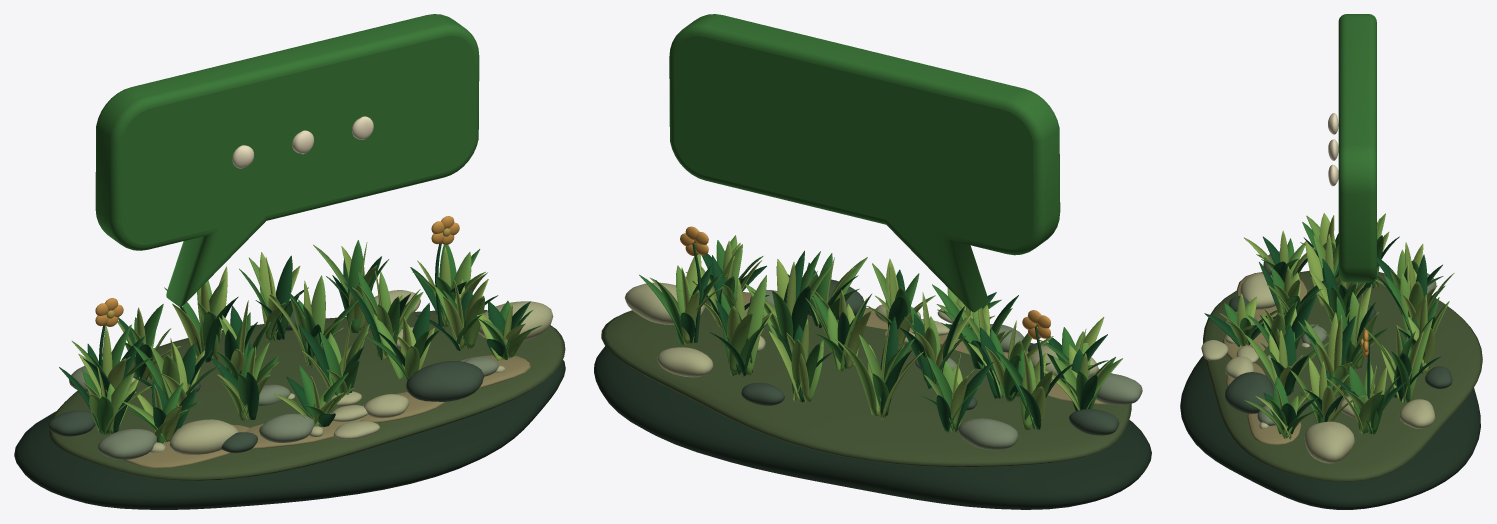
Rendered from invite.glb.
3 renders of one model, left to right at view 1: azimuth 30°, elevation 25°; view 2: azimuth 150°, elevation 25°; view 3: azimuth 270°, elevation 25°, orthographic. The views are drawn at different scales.
Visible parts, largest first — view 1: invite_surface_04, invite_surface_01, invite_surface_00, invite_surface_06, invite_surface_03, invite_surface_05, invite_surface_08, invite_surface_09, invite_surface_07, invite_surface_02, invite_surface_10, invite_surface_11; view 2: invite_surface_04, invite_surface_01, invite_surface_00, invite_surface_06, invite_surface_03, invite_surface_05, invite_surface_08, invite_surface_07, invite_surface_09, invite_surface_11, invite_surface_02; view 3: invite_surface_01, invite_surface_04, invite_surface_00, invite_surface_06, invite_surface_05, invite_surface_03, invite_surface_08, invite_surface_09, invite_surface_02, invite_surface_07, invite_surface_10.
Part boxes in pixels (bbox=[...]): invite_surface_04: bbox=[82, 14, 532, 443]; invite_surface_01: bbox=[48, 310, 565, 480]; invite_surface_00: bbox=[14, 360, 565, 509]; invite_surface_06: bbox=[78, 242, 525, 441]; invite_surface_03: bbox=[59, 243, 530, 434]; invite_surface_05: bbox=[72, 244, 542, 442]; invite_surface_08: bbox=[130, 290, 553, 454]; invite_surface_09: bbox=[48, 310, 483, 452]; invite_surface_07: bbox=[69, 356, 498, 459]; invite_surface_02: bbox=[124, 355, 531, 468]; invite_surface_10: bbox=[232, 116, 373, 168]; invite_surface_11: bbox=[95, 216, 459, 326]; invite_surface_04: bbox=[639, 14, 1115, 432]; invite_surface_01: bbox=[601, 297, 1131, 467]; invite_surface_00: bbox=[594, 346, 1151, 509]; invite_surface_06: bbox=[678, 240, 1110, 430]; invite_surface_03: bbox=[680, 243, 1107, 431]; invite_surface_05: bbox=[649, 235, 1122, 431]; invite_surface_08: bbox=[624, 282, 1098, 379]; invite_surface_07: bbox=[750, 290, 1142, 450]; invite_surface_09: bbox=[741, 279, 1119, 435]; invite_surface_11: bbox=[680, 226, 1050, 339]; invite_surface_02: bbox=[742, 292, 1113, 404]; invite_surface_01: bbox=[1203, 270, 1482, 481]; invite_surface_04: bbox=[1224, 14, 1445, 434]; invite_surface_00: bbox=[1180, 355, 1480, 509]; invite_surface_06: bbox=[1219, 213, 1448, 439]; invite_surface_05: bbox=[1227, 213, 1454, 438]; invite_surface_03: bbox=[1204, 233, 1442, 434]; invite_surface_08: bbox=[1201, 273, 1435, 463]; invite_surface_09: bbox=[1225, 296, 1452, 413]; invite_surface_02: bbox=[1223, 272, 1307, 444]; invite_surface_07: bbox=[1224, 251, 1436, 425]; invite_surface_10: bbox=[1328, 113, 1338, 186].
Size of the model in its own units: 4.31 by 3.08 by 2.45.
